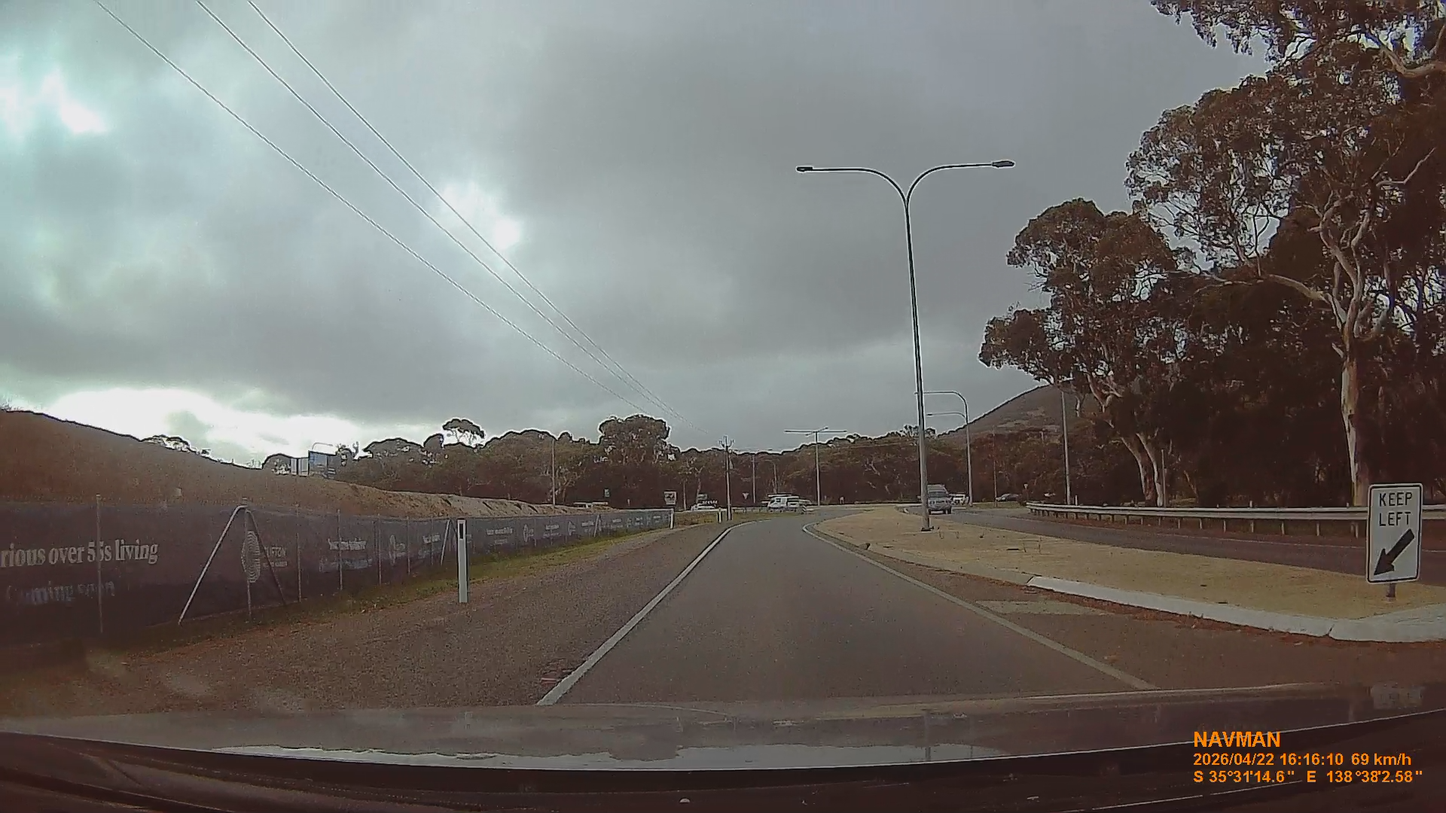road barriers: (1027, 505, 1367, 544)
